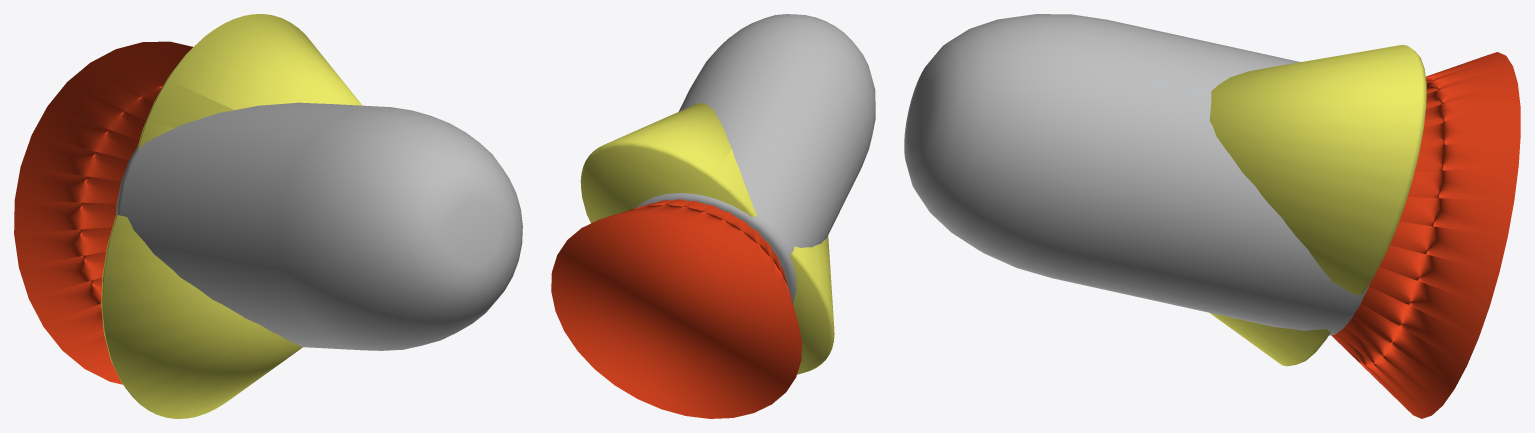
File: rocket.fbx
3 views of the same model, side by side, from view 1: azimuth 30°, elevation 25°; view 2: azimuth 150°, elevation 25°; view 3: azimuth 270°, elevation 25° (orthographic). The views are drawn at different scales.
Visible parts, largest first — view 1: Cone.002; view 2: Cone.002; view 3: Cone.002.
Boxes of the visible parts, left/top/right/bottom form: Cone.002: left=14, top=14, right=522, bottom=418; Cone.002: left=551, top=14, right=875, bottom=418; Cone.002: left=904, top=14, right=1520, bottom=418.
Size of the model in its own units: 23.94 by 27.93 by 39.02.
